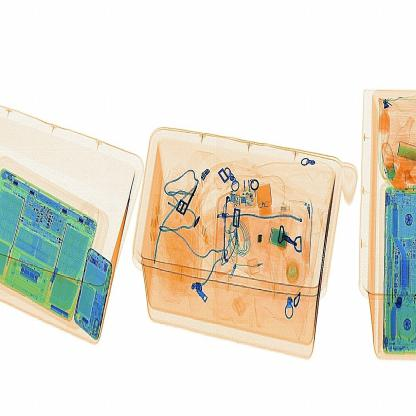wrench: (250, 230, 271, 257)
